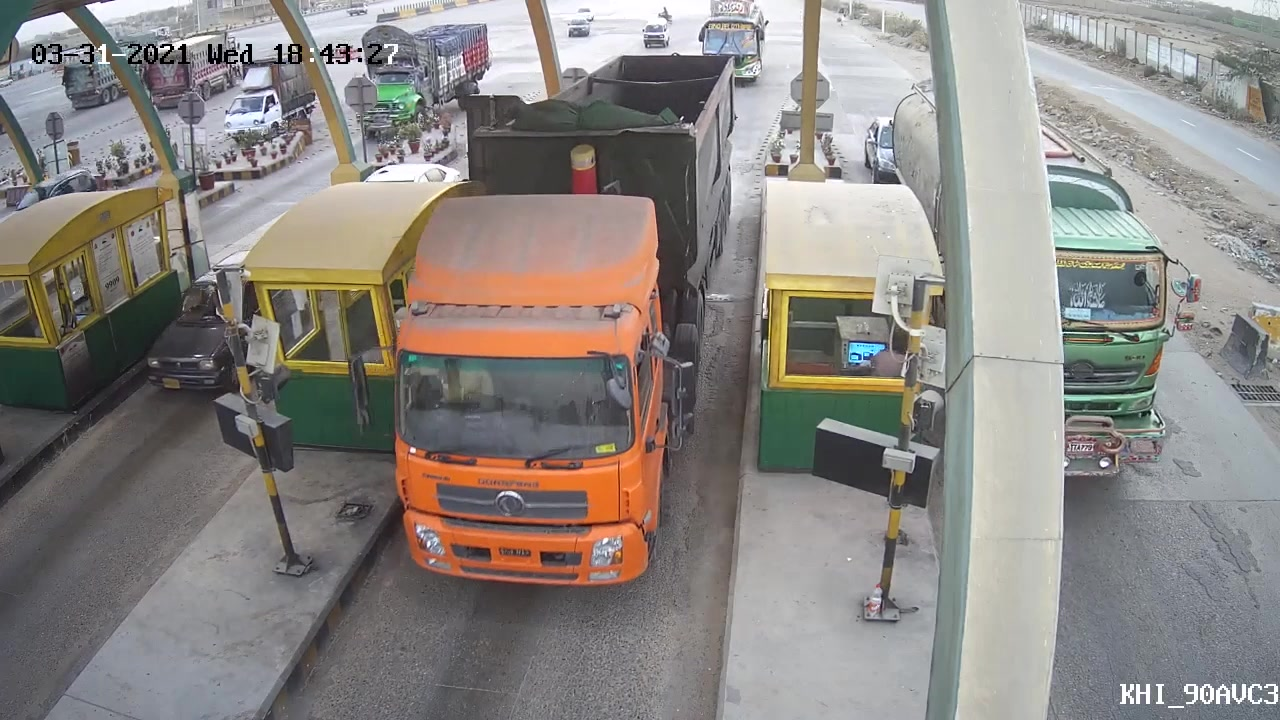F6: (374, 51, 746, 593)
